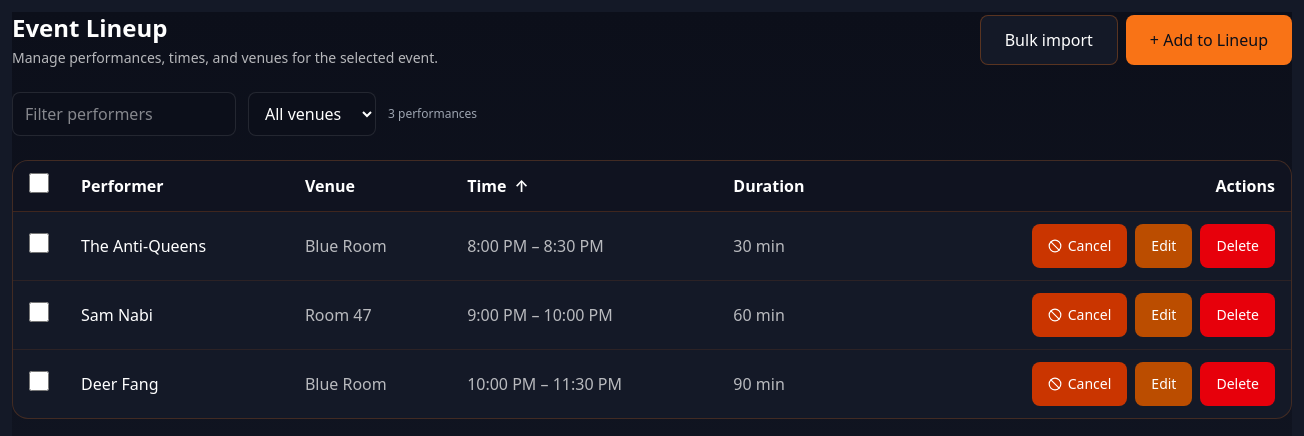
it: LineupTab — filtering and sorting › shows the filtered-empty message (distinct from the no-lineup message) when a filter matches nothing
The image size is (1304, 436).
Expected: the table is shown, [13,161,1291,418]
Type "nobody-plays-this" into the field with placeholder "Filter performers" at (124, 114), box [12,92,236,136]
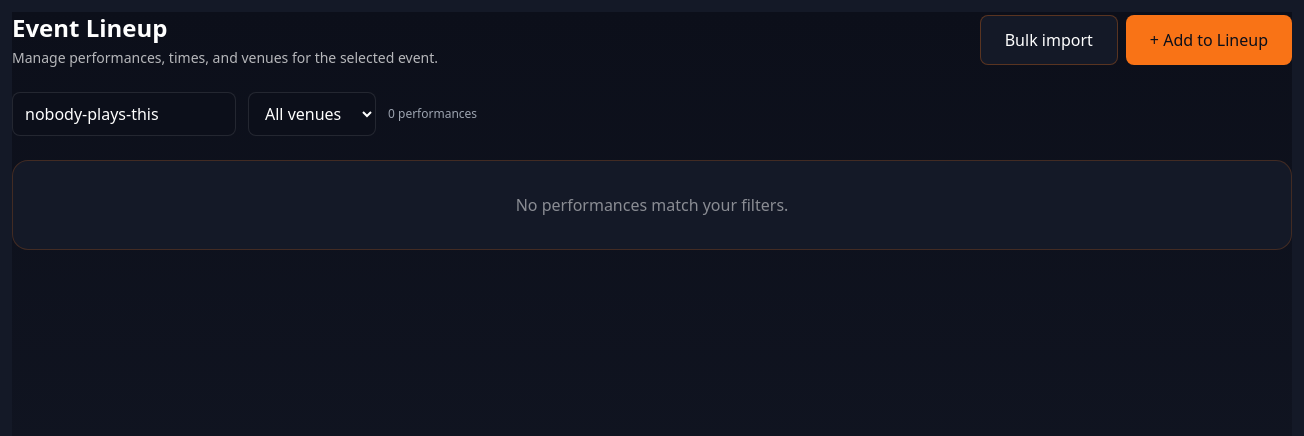
Expected: the text "No performances match your filters." is shown, [516,194,788,216]
